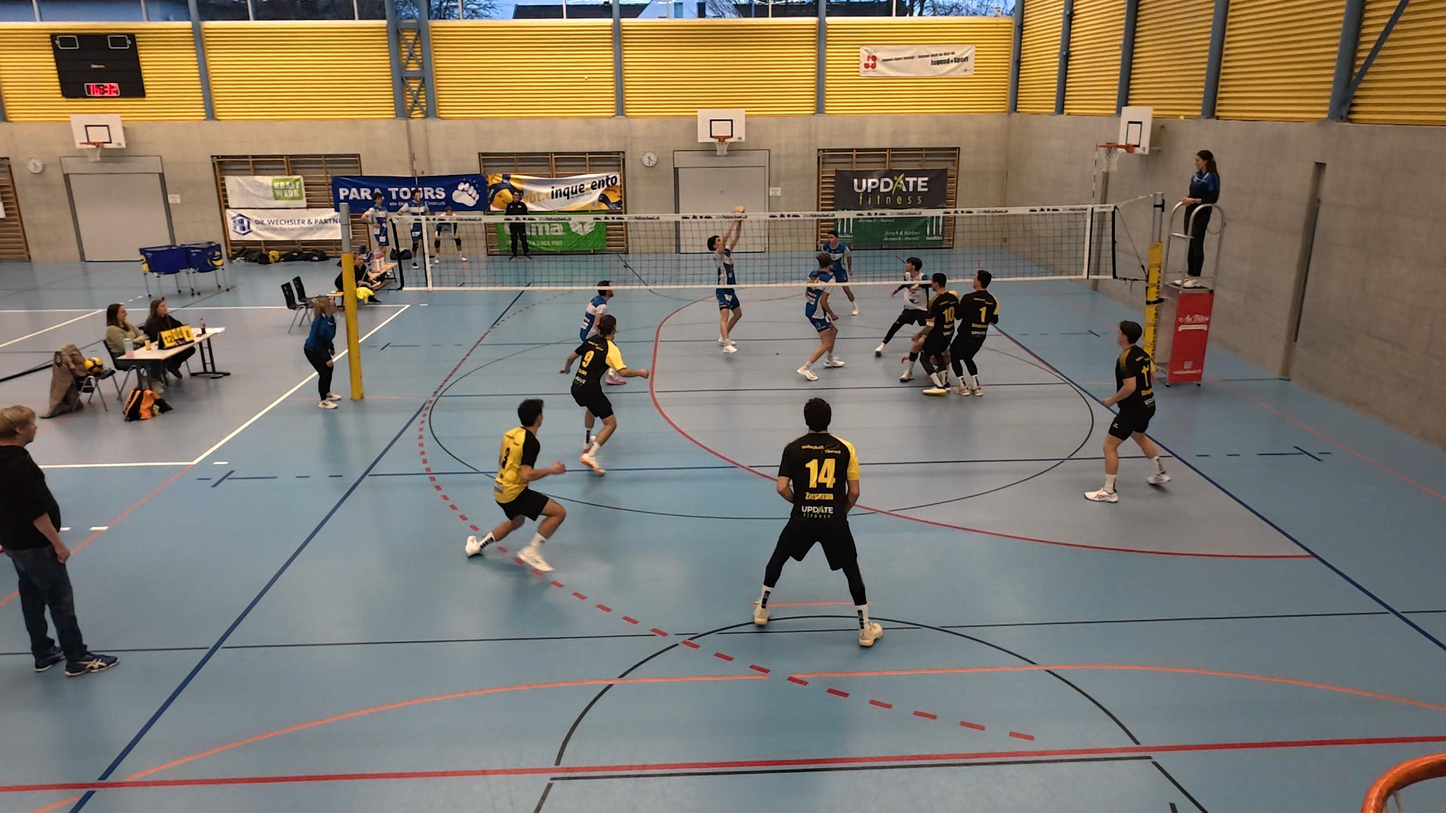Dig: (708, 204, 748, 355)
Player: (750, 399, 882, 647), (466, 400, 563, 573), (1084, 321, 1168, 500), (571, 318, 647, 474), (926, 273, 994, 398), (872, 256, 931, 361), (794, 262, 844, 381), (894, 274, 946, 387), (820, 233, 854, 316), (577, 279, 615, 348)
ball: (730, 204, 746, 217)
